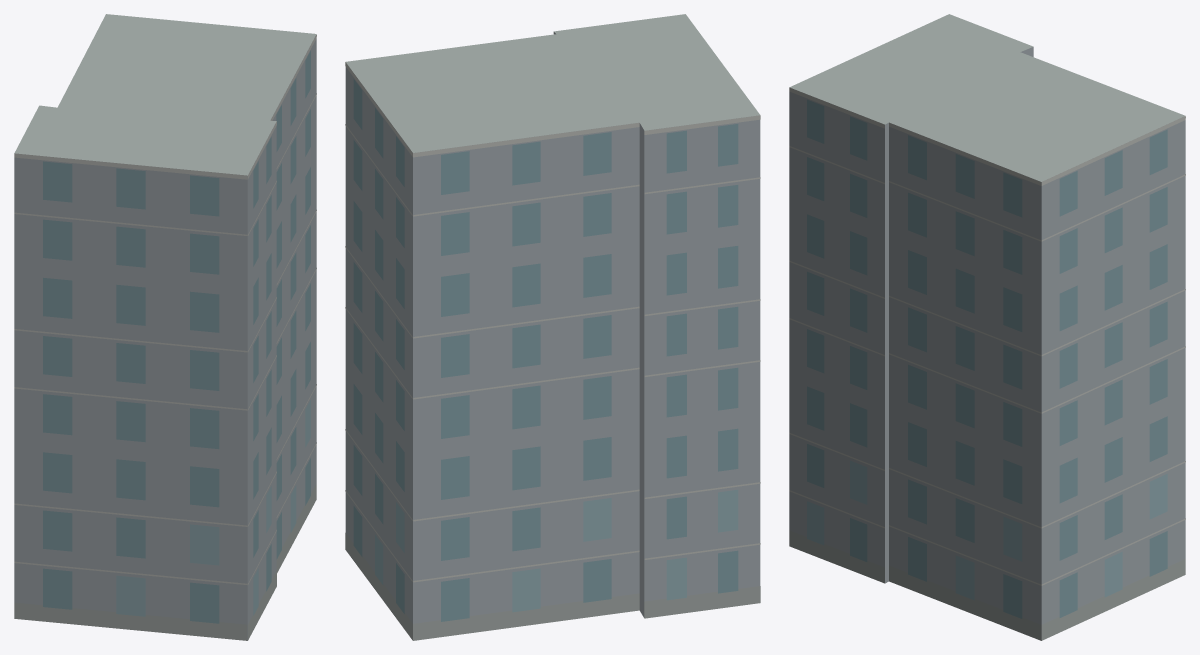
The model's file is survey-upis-32850998.glb.
3 views of the same model, side by side, from view 1: azimuth 30°, elevation 25°; view 2: azimuth 150°, elevation 25°; view 3: azimuth 270°, elevation 25° (orthographic). The views are drawn at different scales.
Parts seen in each view (by area): view 1: survey-upis-32850998.tmp; view 2: survey-upis-32850998.tmp; view 3: survey-upis-32850998.tmp.
Boxes of the visible parts, bbox=[...] form: survey-upis-32850998.tmp: bbox=[14, 14, 316, 640]; survey-upis-32850998.tmp: bbox=[345, 14, 760, 640]; survey-upis-32850998.tmp: bbox=[789, 14, 1185, 640].
Size of the model in its own units: 21.26 by 27.05 by 21.19.
